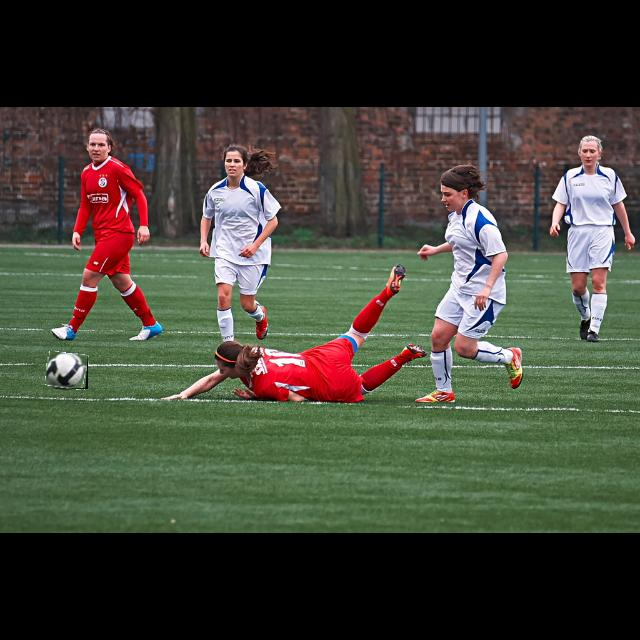Football: (46, 353, 88, 389)
